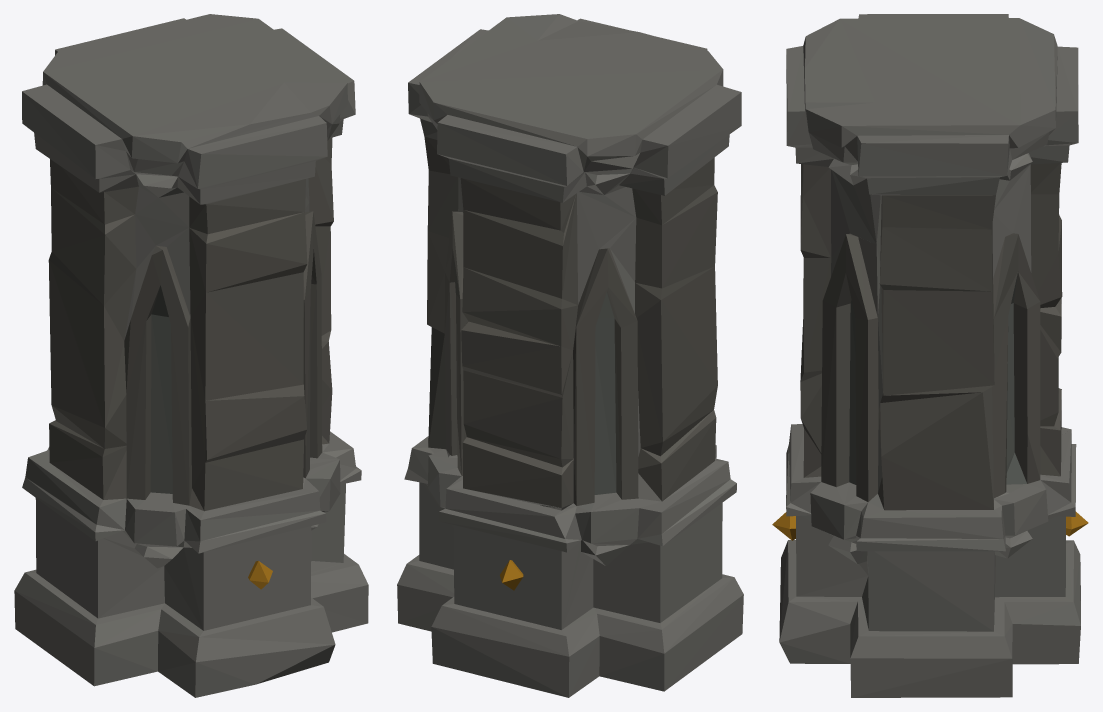
File: MDungeon_PillarSmall_Base.FBX
3 views of the same model, side by side, from view 1: azimuth 30°, elevation 25°; view 2: azimuth 150°, elevation 25°; view 3: azimuth 270°, elevation 25° (orthographic).
Visible parts, largest first — view 1: MDungeon_PillarSmall_Base_LOD0; view 2: MDungeon_PillarSmall_Base_LOD0; view 3: MDungeon_PillarSmall_Base_LOD0.
Part boxes in pixels (box(x1,y1,x2,y2)): MDungeon_PillarSmall_Base_LOD0: box(14, 14, 368, 697); MDungeon_PillarSmall_Base_LOD0: box(397, 14, 743, 697); MDungeon_PillarSmall_Base_LOD0: box(772, 14, 1088, 697).
Size of what is drawn, in the model's own units: 2.03 by 3.94 by 2.02.
